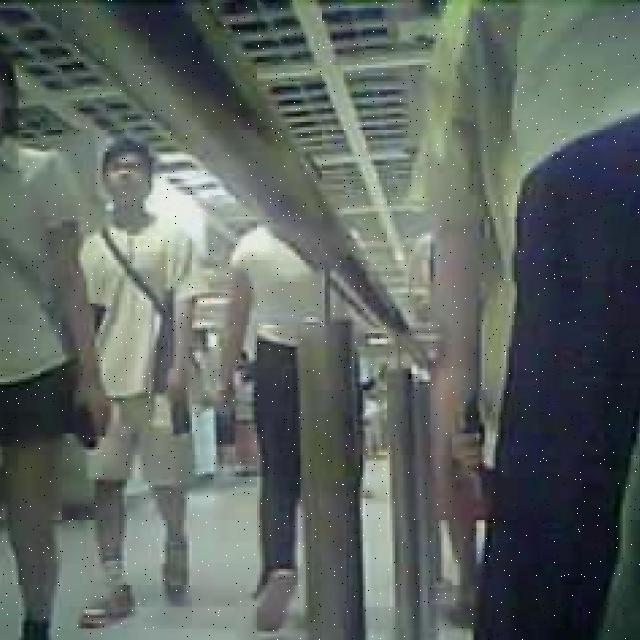person: (423, 0, 640, 640), (213, 173, 366, 628), (75, 134, 200, 627), (0, 62, 93, 640)
